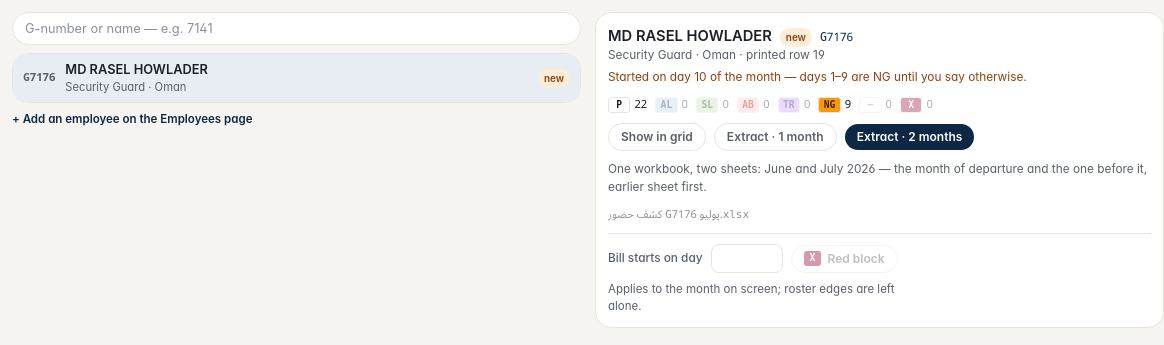
Test: EmployeePanel › offers nothing to block when every day before the start is a roster edge
Type "8" into the number field labelled "Bill starts on day" at [746, 259], box [710,244,782,273]
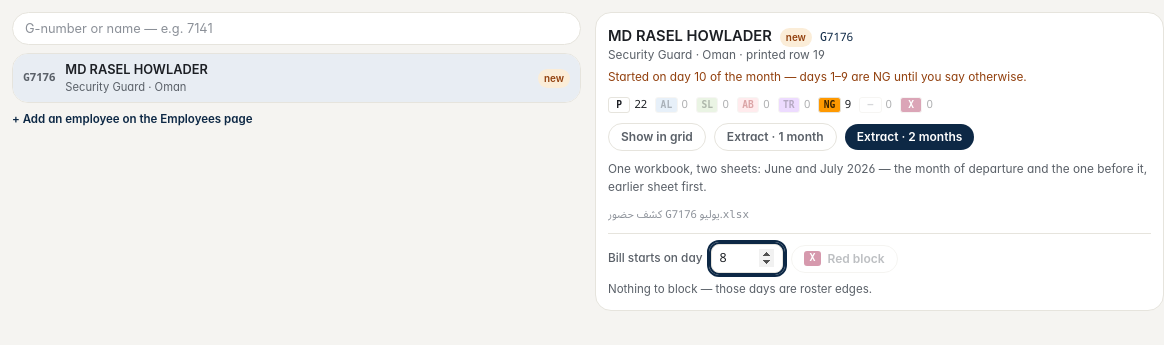
Expected: the button "X Red block" is disabled, [790,245,898,273]
Expected: the text "Nothing to block — those days are roster edges." is shown, [608,281,872,298]
